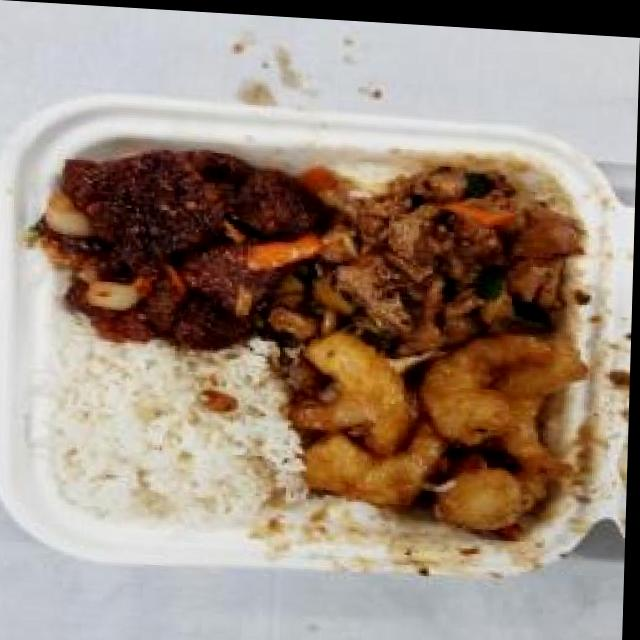Beijing Beef: (35, 130, 323, 348)
Honey Walnut Shrimp: (288, 319, 598, 541)
Kung Pao Chicken: (297, 142, 597, 369)
White Steamed Rice: (46, 340, 293, 529)
